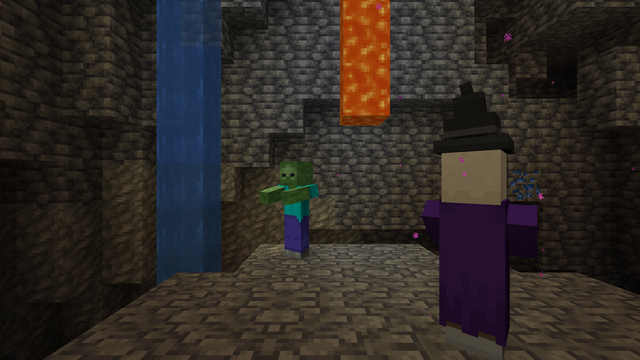sorcieres: (430, 141, 530, 356)
zombies: (280, 163, 310, 259)
